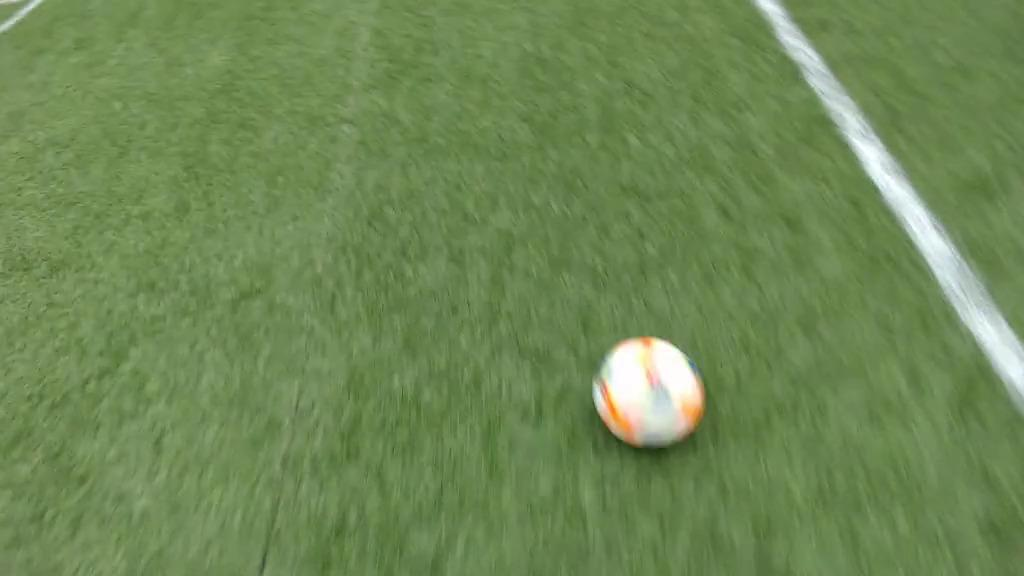ball: (593, 338, 704, 447)
